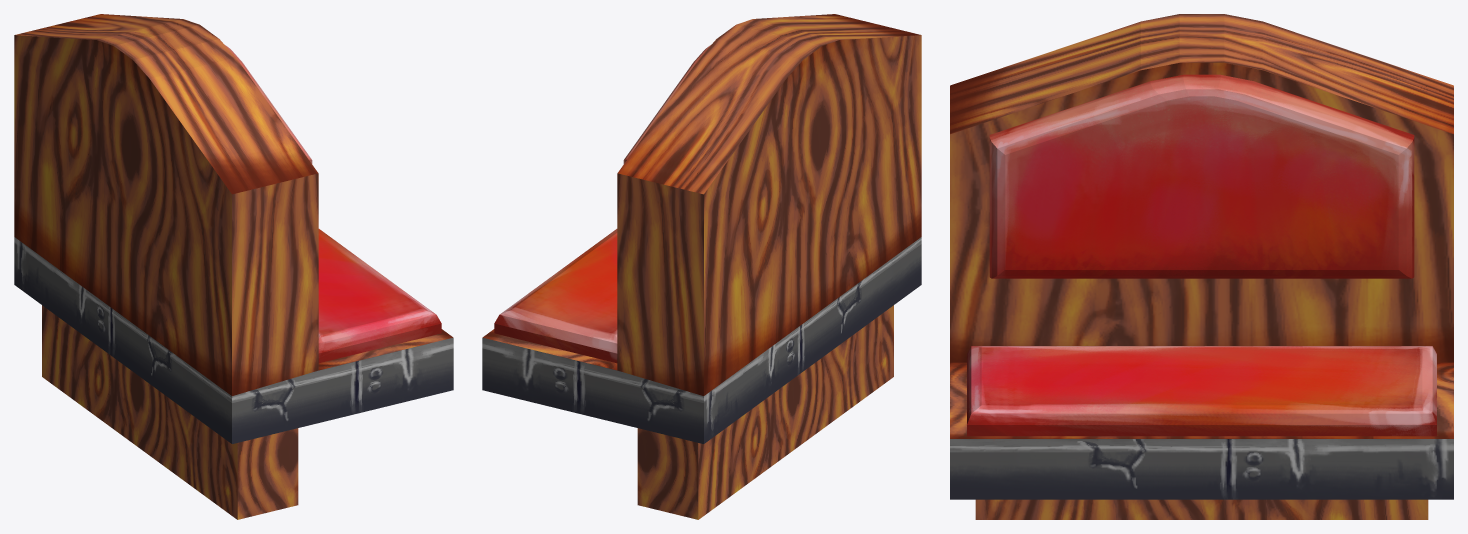
The model's file is Banco.fbx.
3 renders of one model, left to right at view 1: azimuth 30°, elevation 25°; view 2: azimuth 150°, elevation 25°; view 3: azimuth 270°, elevation 25°, orthographic. The views are drawn at different scales.
Parts seen in each view (by area): view 1: Banco; view 2: Banco; view 3: Banco.
Part boxes in pixels (bbox=[...]): Banco: bbox=[14, 14, 453, 519]; Banco: bbox=[482, 14, 921, 519]; Banco: bbox=[950, 14, 1453, 519].
Bounding box in the file's own units: 58.74 × 101 × 100.
